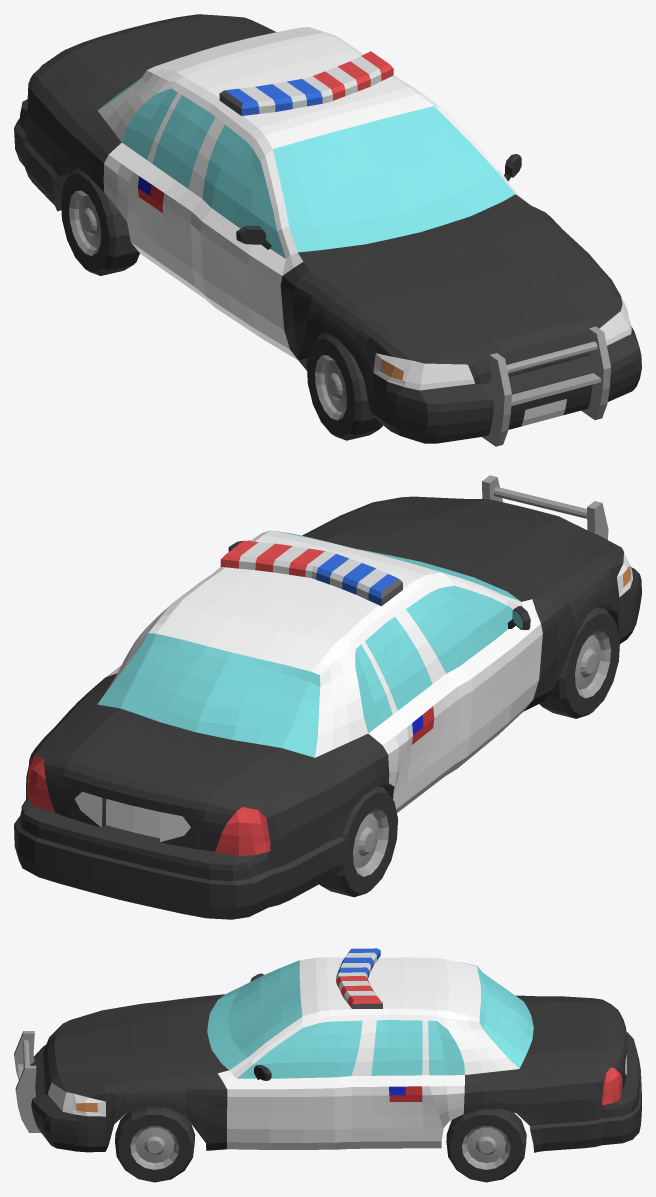
File: copcar.glb
3 renders of one model, top to bottom at view 1: azimuth 30°, elevation 25°; view 2: azimuth 150°, elevation 25°; view 3: azimuth 270°, elevation 25°, orthographic. The views are drawn at different scales.
Visible parts, largest first — view 1: Cube.006, window, Cylinder.016, Cylinder.015; view 2: Cube.006, window, Cylinder.015, Cylinder.016; view 3: Cube.006, window, Cylinder.017, Cylinder.018.
Part boxes in pixels (x1=…): Cube.006: x1=14, y1=14, x2=641, y2=446; window: x1=98, y1=39, x2=515, y2=258; Cylinder.016: x1=61, y1=168, x2=139, y2=275; Cylinder.015: x1=306, y1=332, x2=382, y2=440; Cube.006: x1=14, y1=475, x2=641, y2=919; window: x1=97, y1=530, x2=520, y2=757; Cylinder.015: x1=539, y1=607, x2=619, y2=718; Cylinder.016: x1=319, y1=786, x2=397, y2=897; Cube.006: x1=14, y1=948, x2=641, y2=1152; window: x1=207, y1=960, x2=533, y2=1078; Cylinder.017: x1=115, y1=1107, x2=195, y2=1182; Cylinder.018: x1=446, y1=1109, x2=526, y2=1182.
Bounding box in the file's own units: 2.61 × 1.93 × 6.75.
